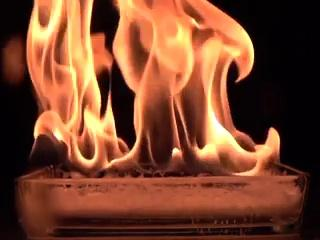Fire: (8, 0, 284, 172)
